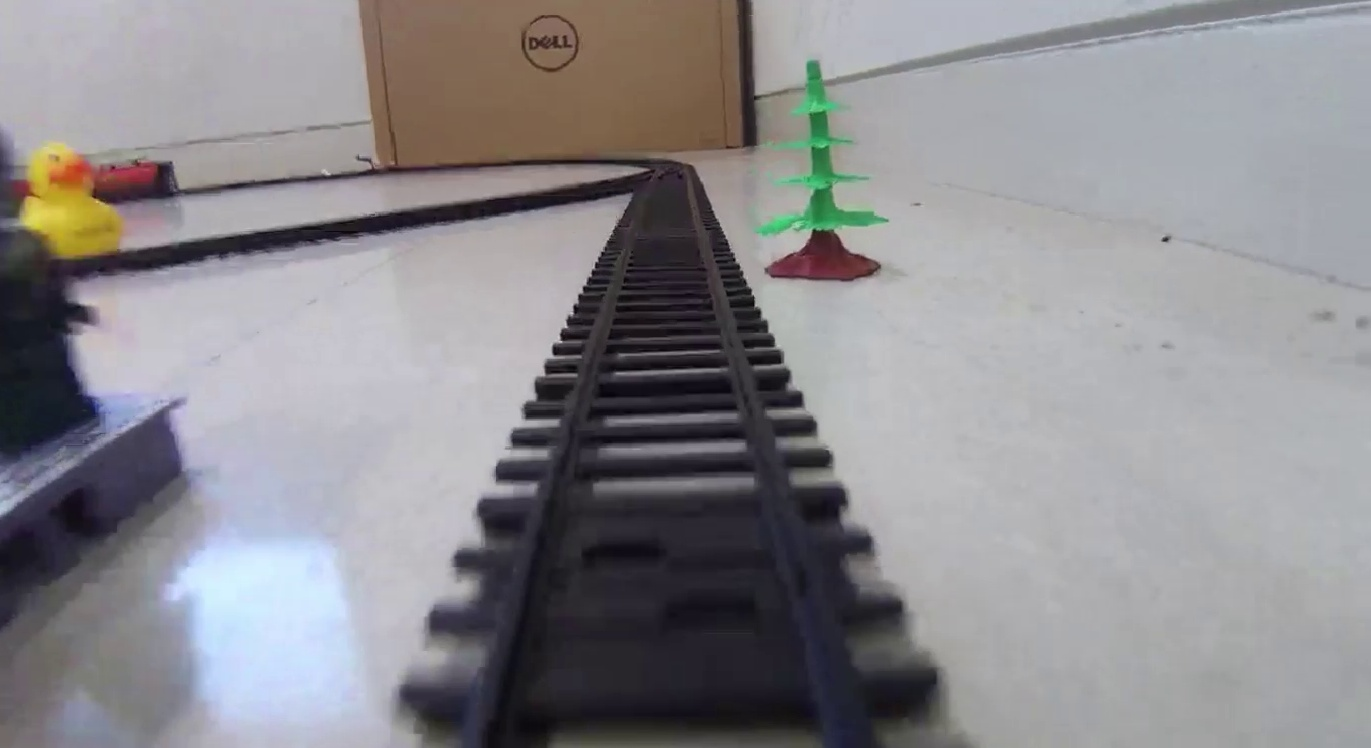tree: (759, 58, 883, 281)
